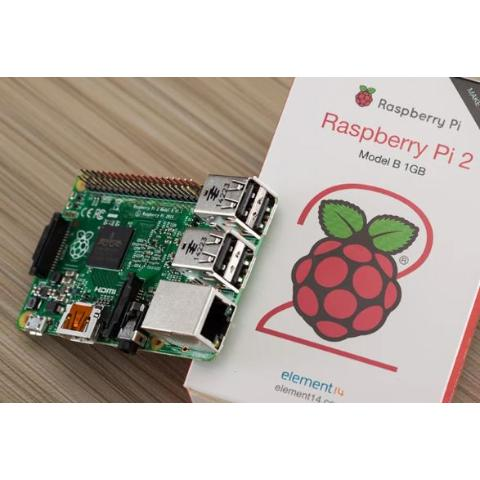Raspberry-Pi-2-Model-B: (11, 164, 284, 376)
